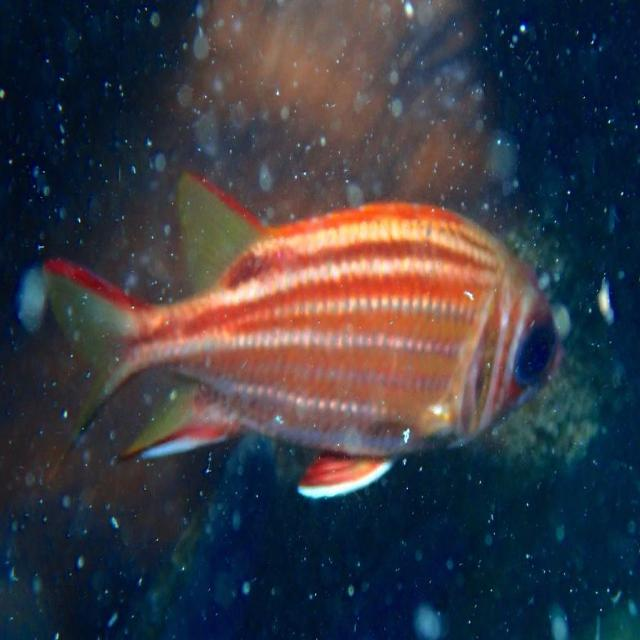Asker Baligi: (31, 133, 573, 514)
